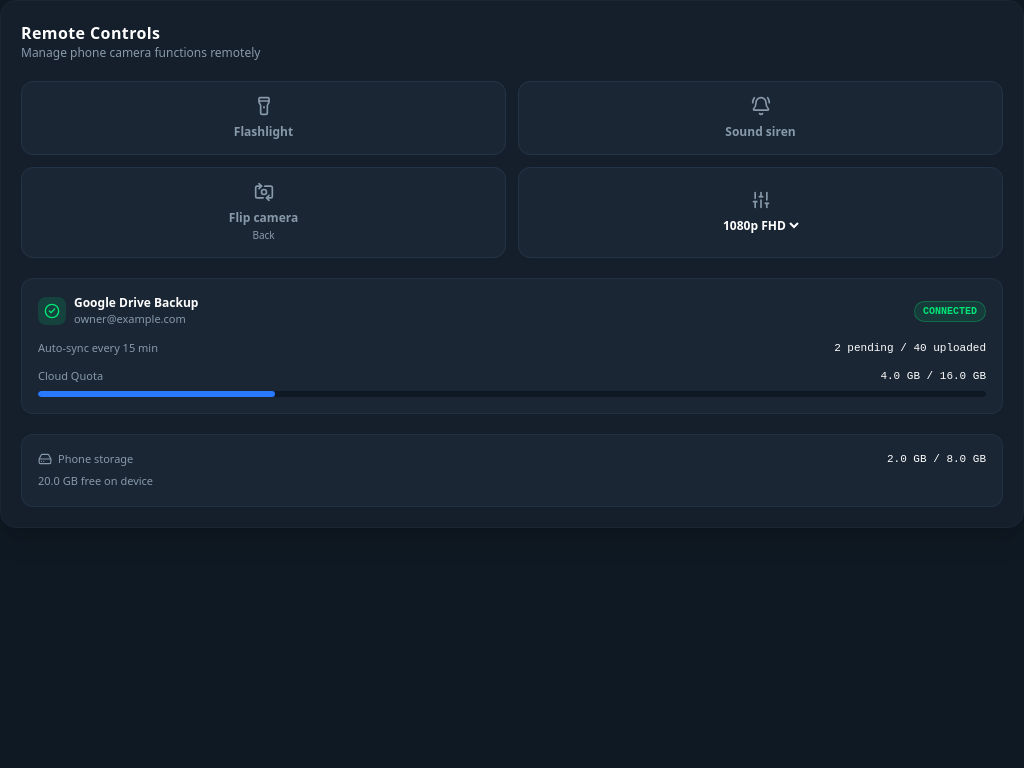
Test: RemoteControls commands › shows API errors inline without alert()
Click the button "Flip camera back". click: [264, 212]
box: x1=21 y1=167 x2=506 y2=258
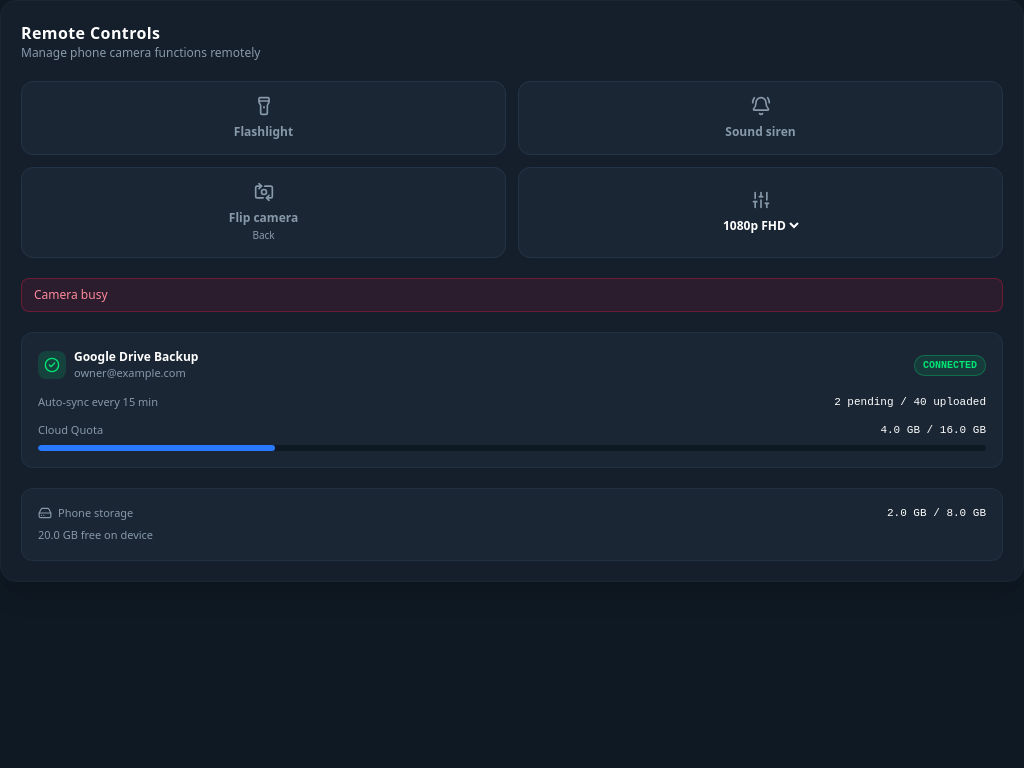
Expected: the message reads "Camera busy", x1=34 y1=286 x2=108 y2=303
